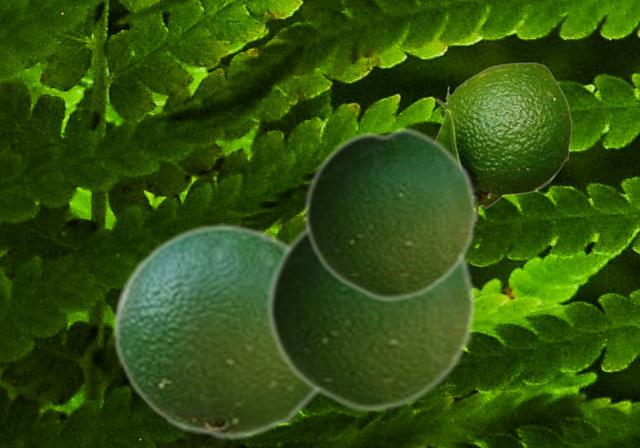dalandan: (112, 223, 318, 440), (266, 226, 476, 413), (303, 125, 477, 302), (435, 62, 571, 221)
